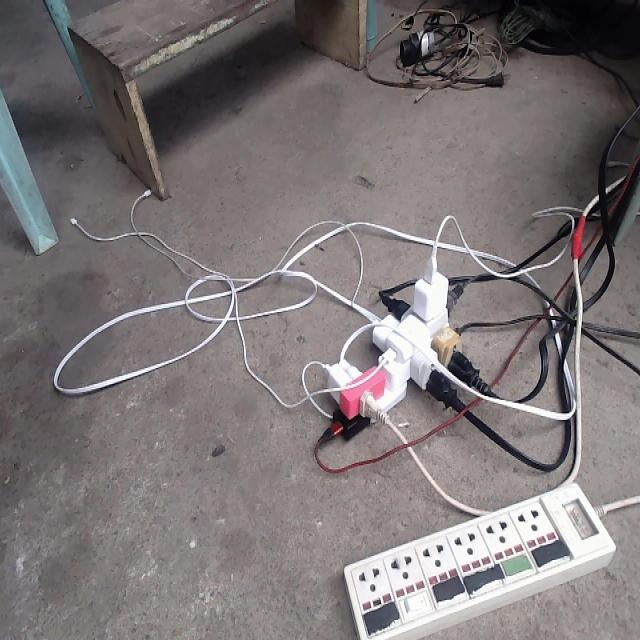-: (318, 256, 492, 437)
